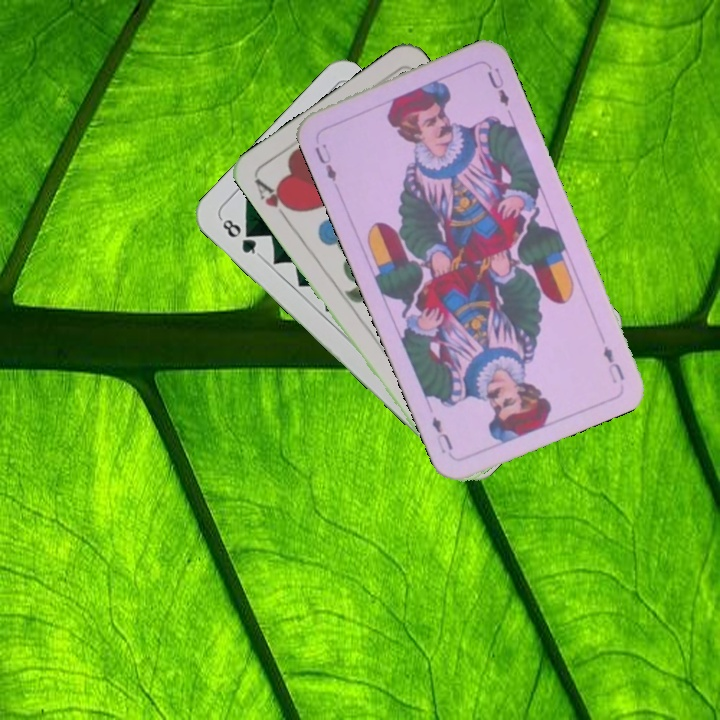EU: (310, 139, 339, 184), (599, 341, 627, 386)
G8: (216, 214, 263, 259)
HA: (250, 174, 298, 225)
